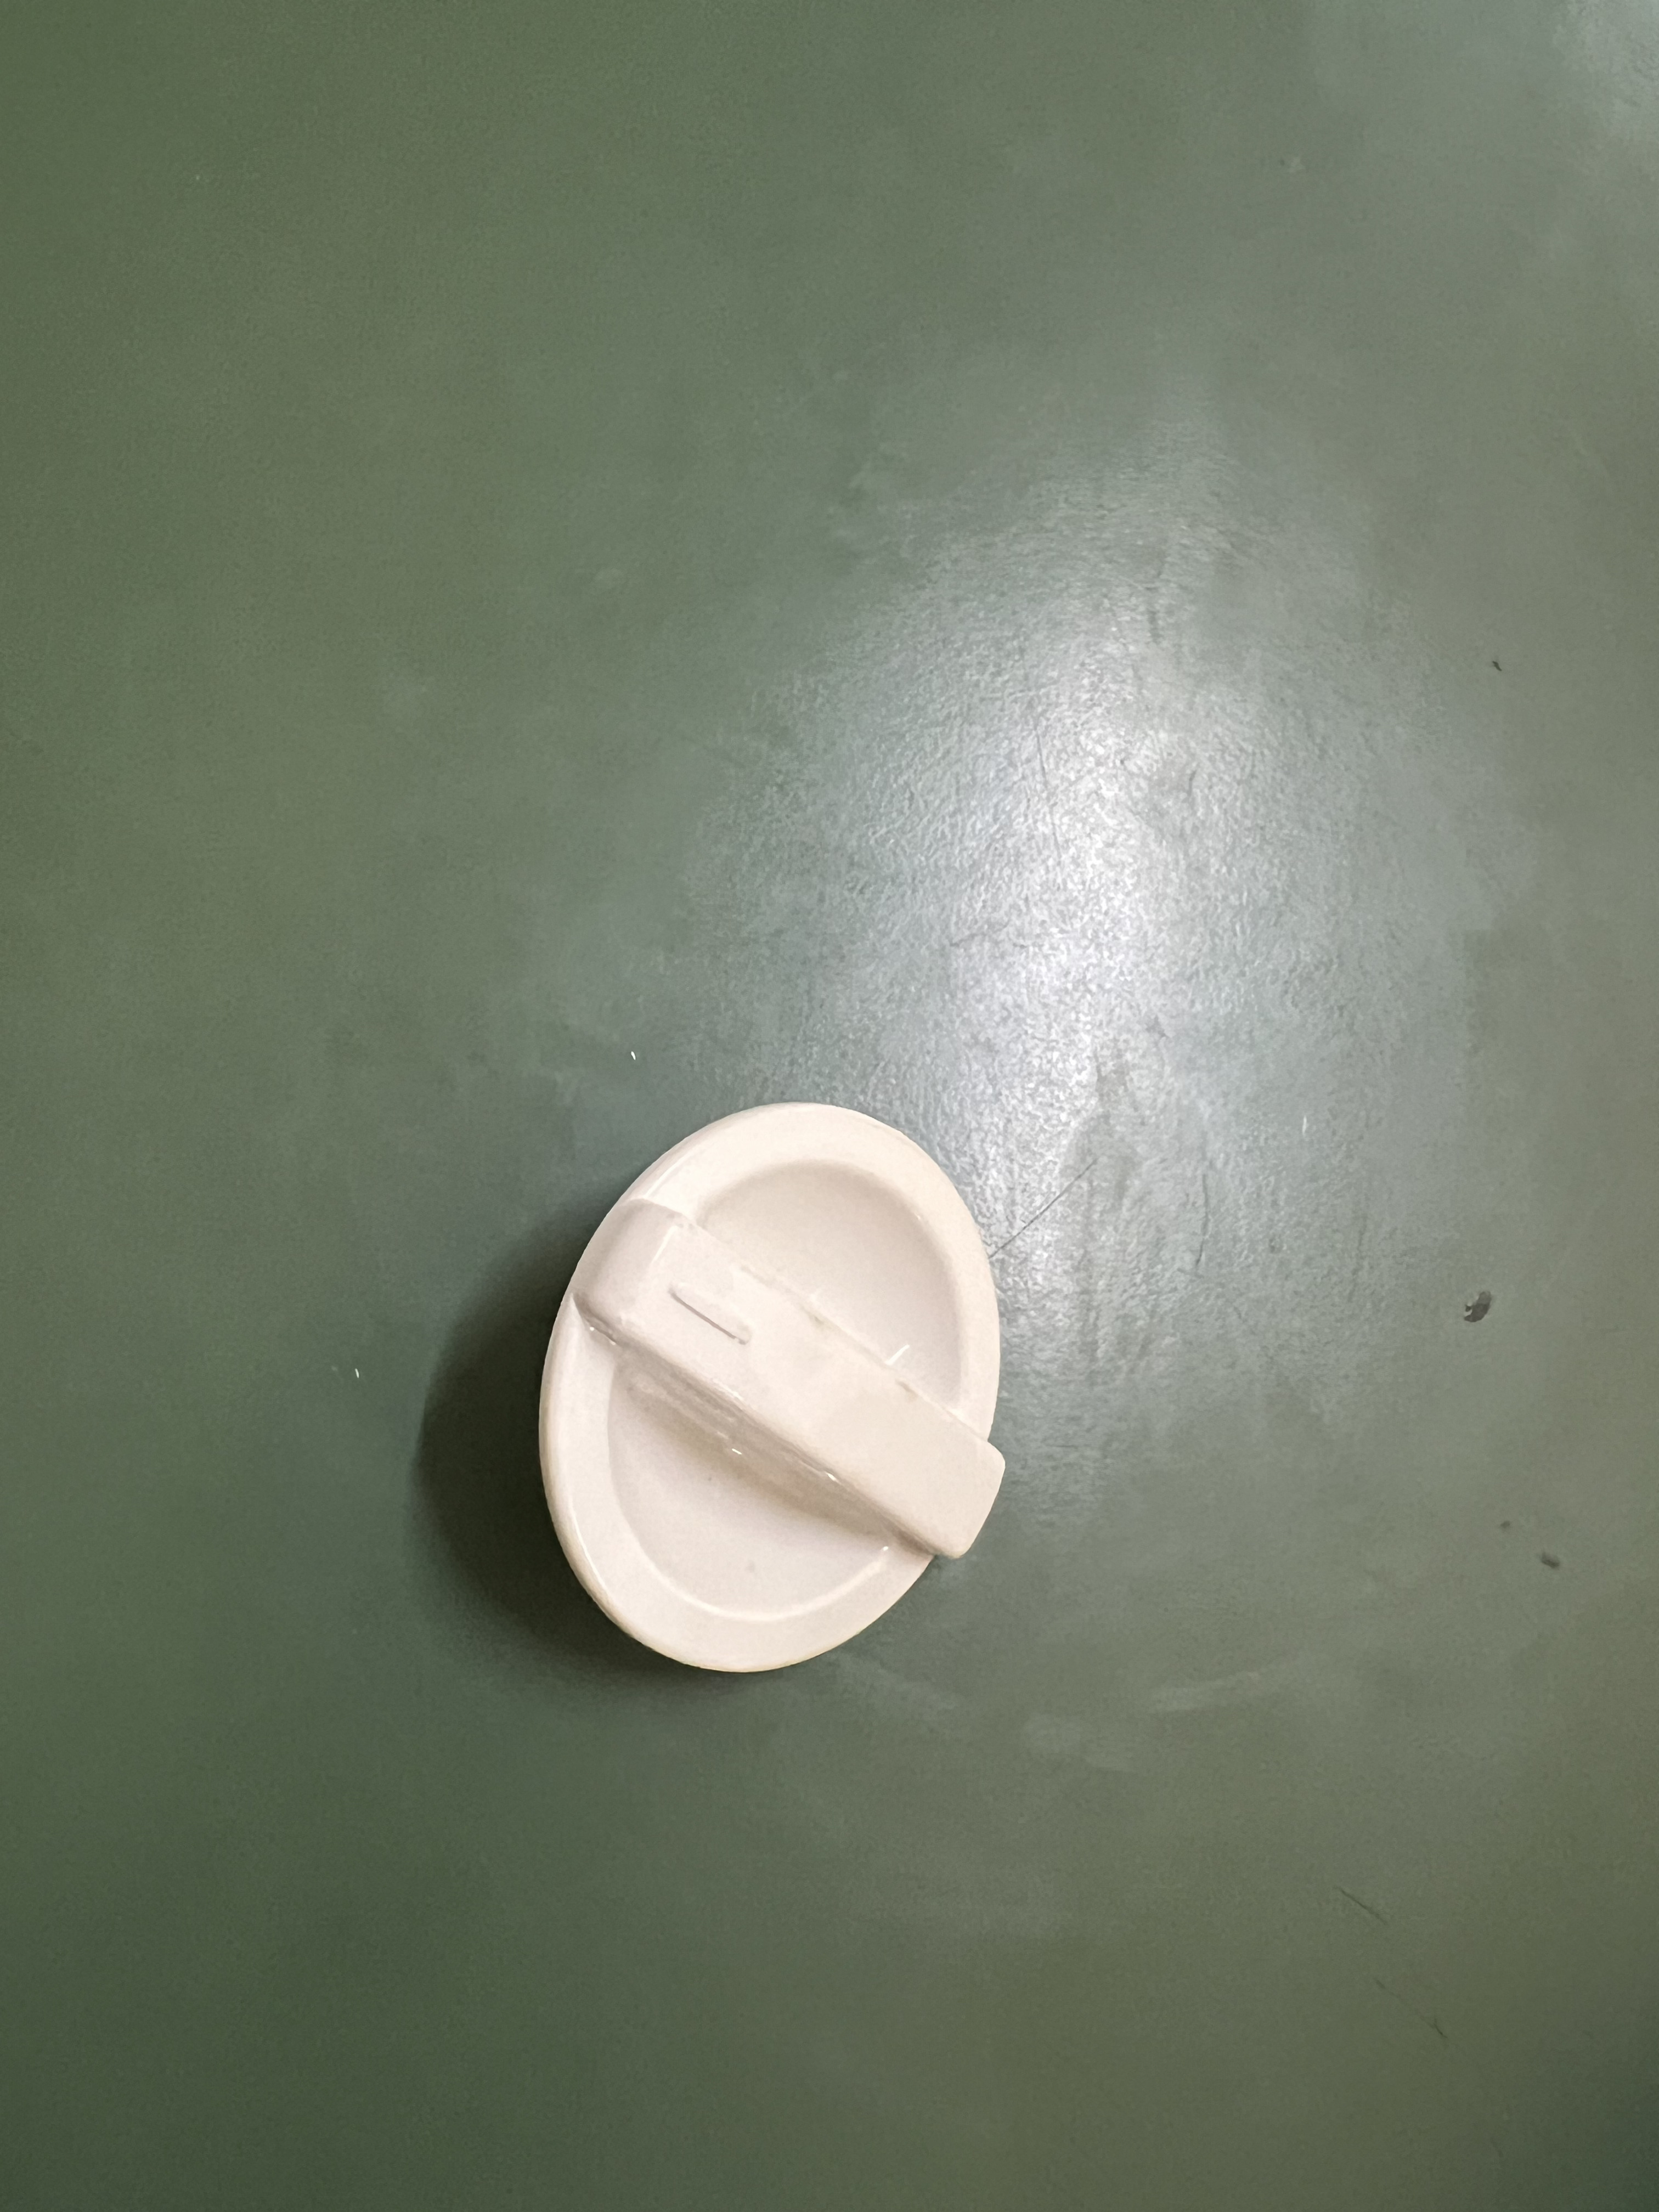regulator: (512, 1080, 1021, 1660)
